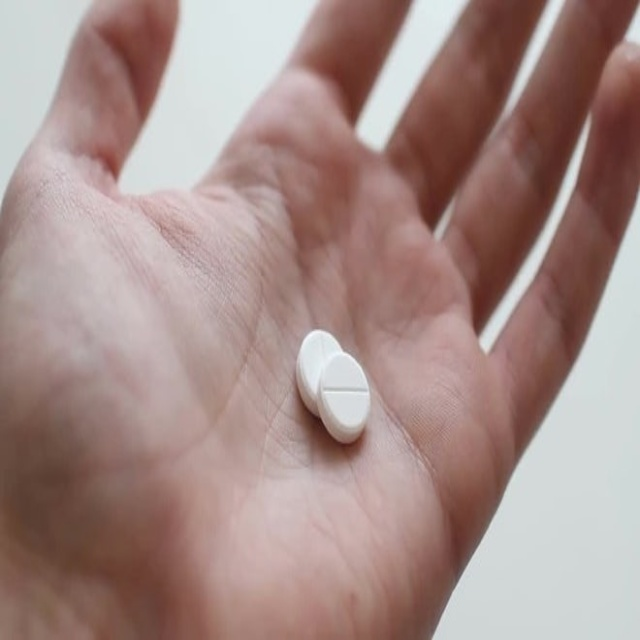pill: (328, 205, 383, 258), (304, 191, 354, 242)
